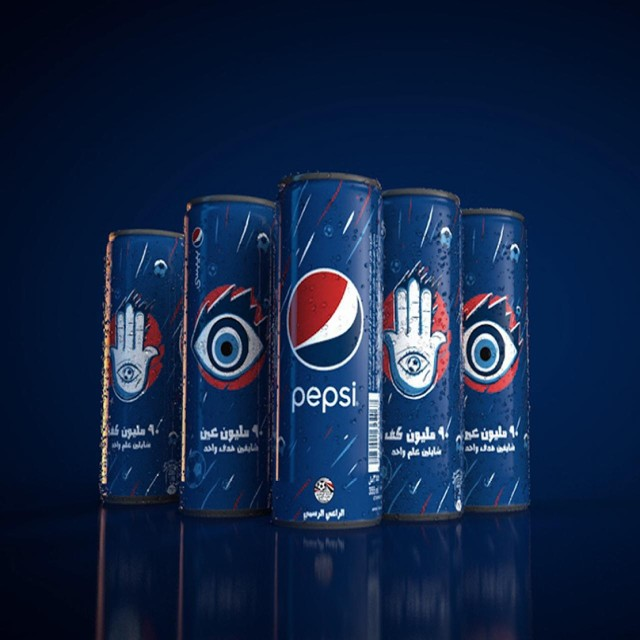pepsi: (288, 269, 360, 375)
